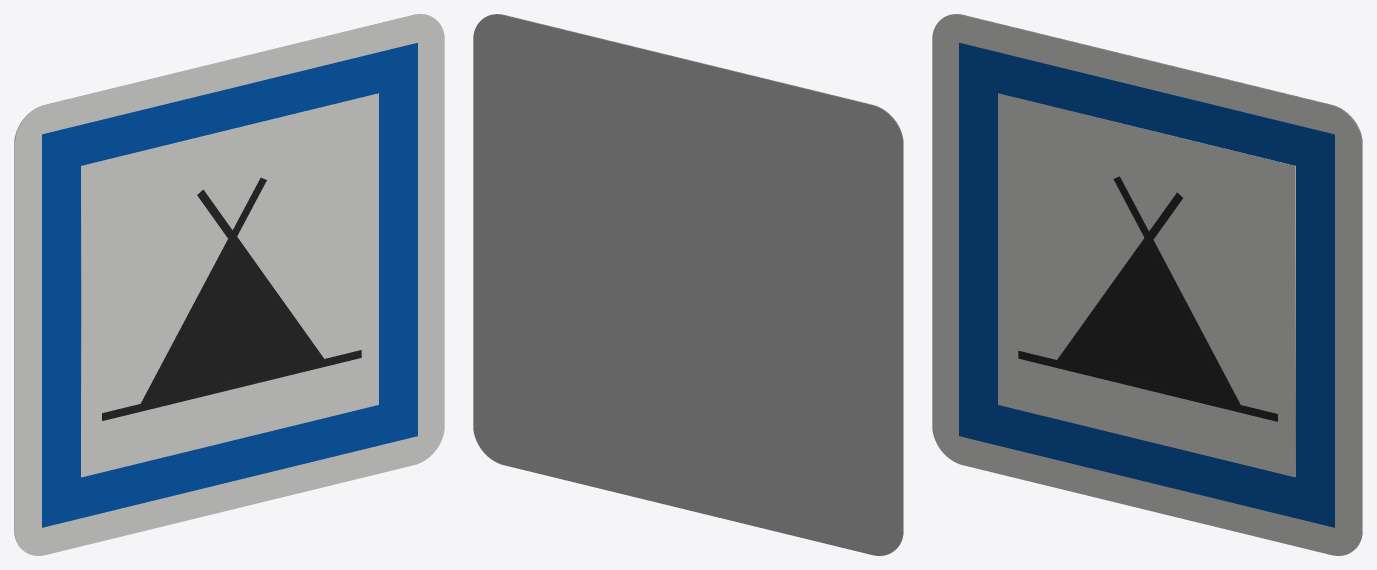
The picture shows the model from 3 angles, left to right: view 1: azimuth 30°, elevation 25°; view 2: azimuth 150°, elevation 25°; view 3: azimuth 330°, elevation 25°; orthographic projection.
Visible parts, largest first — view 1: CE4a_p02, CE4a_p01, CE4a_p00, CE4a_p05, CE4a_p04, CE4a_p03, CE4a_dos; view 2: CE4a_dos, CE4a_p00; view 3: CE4a_p02, CE4a_p01, CE4a_p00, CE4a_p05, CE4a_p04, CE4a_p03, CE4a_dos.
Boxes of the visible parts, left/top/right/bottom form: CE4a_p02: left=81, top=93, right=378, bottom=477; CE4a_p01: left=42, top=42, right=417, bottom=527; CE4a_p00: left=14, top=14, right=444, bottom=555; CE4a_p05: left=145, top=239, right=321, bottom=405; CE4a_p04: left=102, top=177, right=361, bottom=420; CE4a_p03: left=193, top=315, right=271, bottom=390; CE4a_dos: left=14, top=14, right=431, bottom=547; CE4a_dos: left=473, top=14, right=903, bottom=555; CE4a_p00: left=486, top=14, right=903, bottom=547; CE4a_p02: left=998, top=93, right=1295, bottom=477; CE4a_p01: left=959, top=42, right=1334, bottom=527; CE4a_p00: left=932, top=14, right=1362, bottom=555; CE4a_p05: left=1061, top=240, right=1237, bottom=406; CE4a_p04: left=1018, top=176, right=1277, bottom=421; CE4a_p03: left=1109, top=316, right=1187, bottom=391; CE4a_dos: left=945, top=14, right=1362, bottom=547.
Bounding box in the file's own units: 0.7 × 0.6999 × 0.0039.
